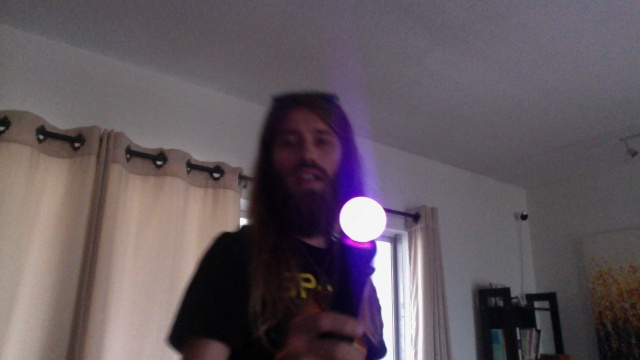wand: (340, 197, 387, 240)
